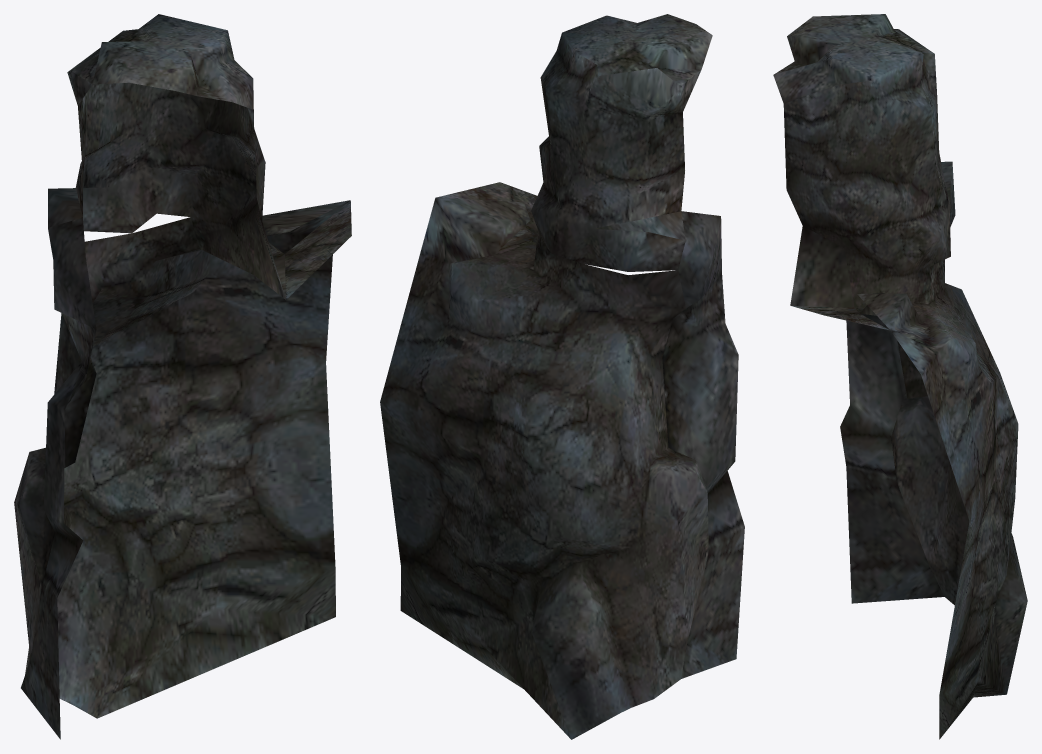
Rendered from S_Rock_Yellow034_H36.FBX.
3 views of the same model, side by side, from view 1: azimuth 30°, elevation 25°; view 2: azimuth 150°, elevation 25°; view 3: azimuth 270°, elevation 25° (orthographic). The views are drawn at different scales.
Parts seen in each view (by area): view 1: S_Rock_Yellow034_H36; view 2: S_Rock_Yellow034_H36; view 3: S_Rock_Yellow034_H36.
Part boxes in pixels (x1,y1,x2,y2): S_Rock_Yellow034_H36: (14, 14, 351, 739); S_Rock_Yellow034_H36: (380, 14, 744, 739); S_Rock_Yellow034_H36: (773, 14, 1027, 739).
Bounding box in the file's own units: 1077 × 769 × 2213.
1 material, 1 textured.
